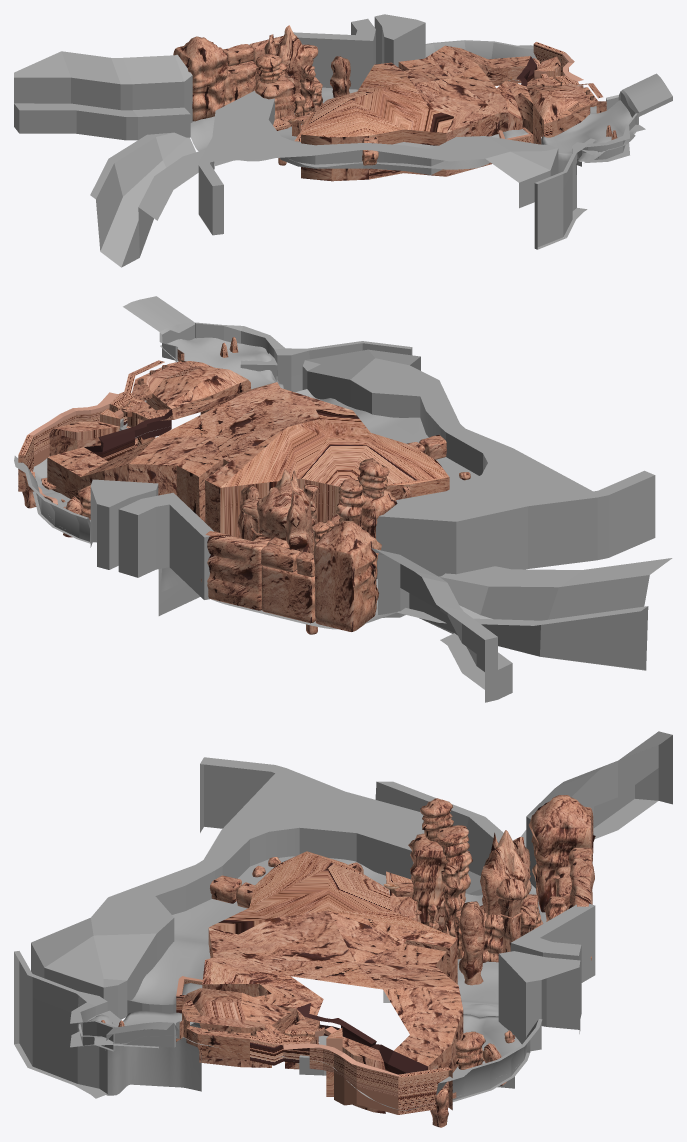
File: env_level02_canyonFullV6.fbx
3 renders of one model, top to bottom at view 1: azimuth 30°, elevation 25°; view 2: azimuth 150°, elevation 25°; view 3: azimuth 270°, elevation 25°, orthographic. The views are drawn at different scales.
Visible parts, largest first — view 1: polySurface2, pCube46, pCube62, polySurface4, pCube76, pCube25, rockwall_a00, pCube125, pCube47, pCube64, pCube102, pCube123 (+9 smaller); view 2: polySurface2, pCube62, polySurface4, pCube46, pCube25, rockwall_a00, rockwall_a03, pCube76, pCube47, pCube125, rockwall_a04, pCube123 (+11 smaller); view 3: polySurface2, pCube62, pCube76, pCube46, pCube47, pCube123, pCube125, rockwall_a00, pCube25, polySurface4, rockwall_c03, pCube102 (+15 smaller).
Boxes of the visible parts, x1,y1,x2,y2 form: polySurface2: [301, 42, 606, 181]; pCube46: [14, 51, 192, 140]; pCube62: [198, 90, 558, 235]; polySurface4: [90, 132, 232, 267]; pCube76: [534, 113, 637, 249]; pCube25: [293, 18, 375, 89]; rockwall_a00: [173, 36, 227, 121]; pCube125: [541, 100, 645, 174]; pCube47: [374, 14, 425, 67]; pCube64: [606, 73, 672, 124]; pCube102: [425, 40, 536, 59]; pCube123: [277, 124, 530, 169]; polySurface2: [18, 349, 449, 537]; pCube62: [302, 349, 655, 578]; polySurface4: [397, 558, 672, 670]; pCube46: [371, 548, 512, 702]; pCube25: [118, 492, 213, 599]; rockwall_a00: [313, 520, 381, 631]; rockwall_a03: [201, 531, 266, 610]; pCube76: [194, 322, 412, 392]; pCube47: [90, 479, 158, 569]; pCube125: [160, 337, 283, 389]; rockwall_a04: [261, 566, 315, 623]; pCube123: [295, 389, 478, 489]; polySurface2: [176, 851, 463, 1114]; pCube62: [31, 757, 424, 1019]; pCube76: [14, 951, 115, 1098]; pCube46: [521, 731, 672, 888]; pCube47: [498, 951, 580, 1051]; pCube123: [127, 856, 389, 1014]; pCube125: [78, 1011, 201, 1095]; rockwall_a00: [528, 795, 595, 912]; pCube25: [510, 903, 595, 1018]; polySurface4: [375, 781, 503, 895]; rockwall_c03: [408, 833, 447, 931]; pCube102: [436, 1019, 542, 1101].
Size of the model in its own units: 60924 by 17406 by 50583.
